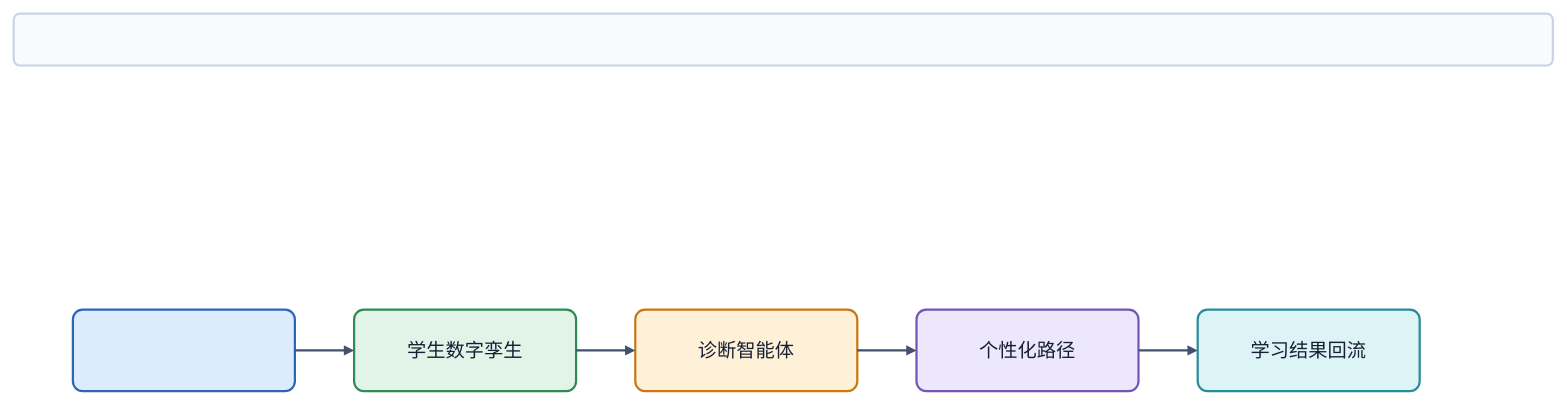
Some shapes in this 1567 by 405 pixel diagram are drawn without their labels. The shapes that lost their labels are listed below. From the top down, each one's centre as x and y in pixels, then its label:
the point at 783,39: 图 6 学生画像、诊断智能体与个性化路径协同流程
the point at 183,350: 证据输入
